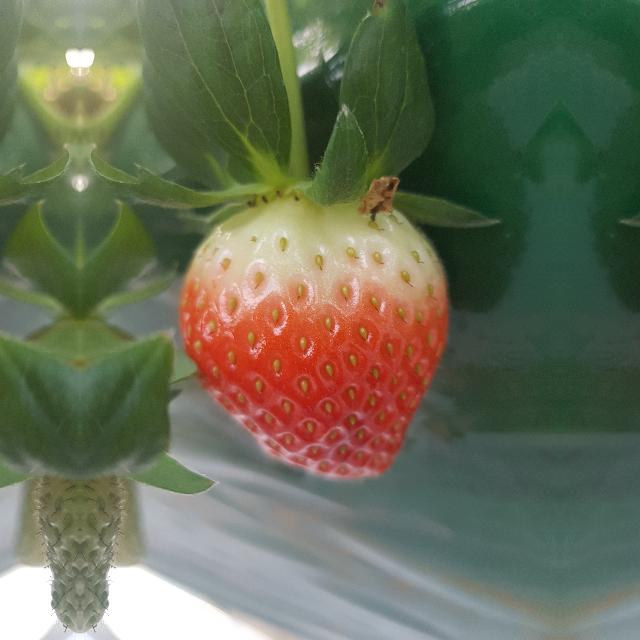Health_75: (178, 186, 450, 482)
